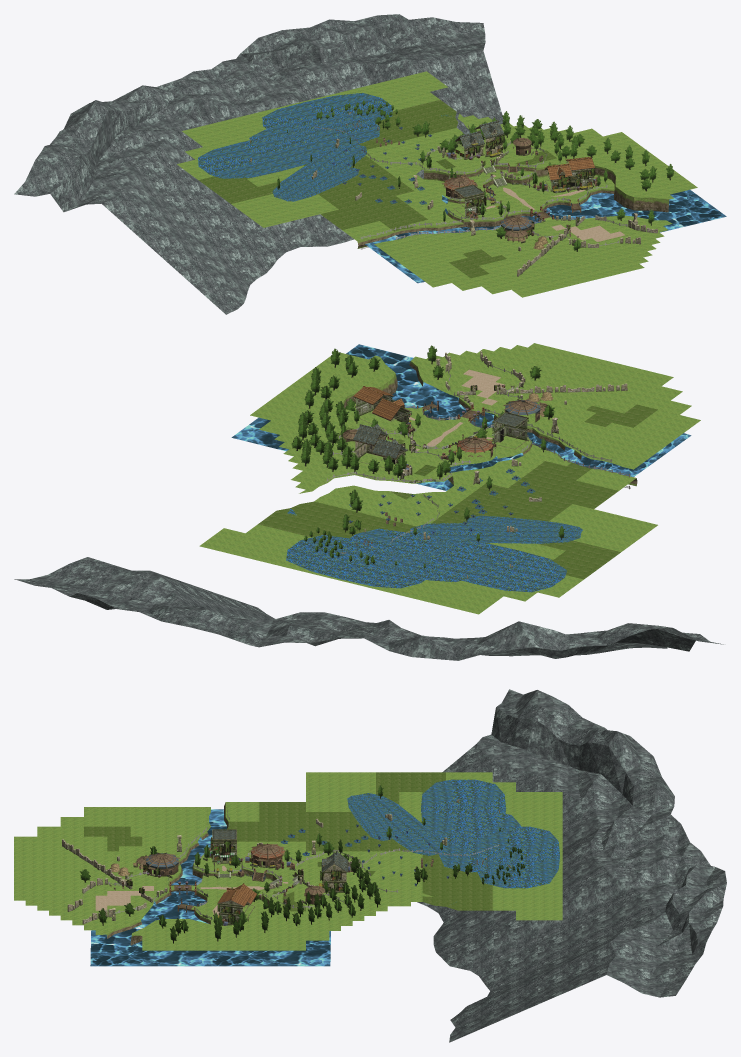
The model's file is ArmoricaVillage.obj.
3 renders of one model, top to bottom at view 1: azimuth 30°, elevation 25°; view 2: azimuth 150°, elevation 25°; view 3: azimuth 270°, elevation 25°, orthographic. The views are drawn at different scales.
Parts seen in each view (by area): view 1: Object.31, Object.27, Object.24, Object.33, Object.30, Object.32, Object.49, Object.28, Object.393, Object.50, Object.43, Object.25 (+66 smaller); view 2: Object.31, Object.393, Object.26, Object.61, Object.394, Object.228, Object.57, Object.391, Object.48, Object.135, Object.130, Object.46 (+83 smaller); view 3: Object.31, Object.25, Object.28, Object.32, Object.43, Object.24, Object.26, Object.393, Object.50, Object.41, Object.61, Object.49 (+65 smaller).
Boxes of the visible parts, bbox=[...] form: Object.31: bbox=[102, 51, 503, 314]; Object.27: bbox=[259, 26, 338, 71]; Object.24: bbox=[78, 110, 157, 168]; Object.33: bbox=[142, 84, 223, 130]; Object.30: bbox=[14, 154, 100, 212]; Object.32: bbox=[103, 85, 182, 135]; Object.49: bbox=[354, 14, 436, 54]; Object.28: bbox=[56, 153, 128, 204]; Object.393: bbox=[240, 123, 329, 157]; Object.50: bbox=[320, 19, 380, 62]; Object.43: bbox=[198, 78, 267, 116]; Object.25: bbox=[42, 121, 118, 176]; Object.31: bbox=[110, 564, 667, 656]; Object.393: bbox=[390, 540, 488, 583]; Object.26: bbox=[476, 621, 560, 652]; Object.61: bbox=[514, 346, 608, 383]; Object.394: bbox=[342, 528, 441, 572]; Object.228: bbox=[572, 509, 657, 542]; Object.57: bbox=[564, 361, 651, 393]; Object.391: bbox=[426, 530, 537, 566]; Object.48: bbox=[88, 564, 161, 602]; Object.135: bbox=[462, 488, 550, 517]; Object.130: bbox=[292, 501, 380, 537]; Object.46: bbox=[29, 557, 109, 587]; Object.31: bbox=[417, 744, 654, 1042]; Object.25: bbox=[533, 697, 604, 769]; Object.28: bbox=[482, 704, 541, 766]; Object.32: bbox=[593, 746, 661, 817]; Object.43: bbox=[592, 816, 664, 862]; Object.24: bbox=[536, 729, 607, 793]; Object.26: bbox=[588, 729, 653, 793]; Object.393: bbox=[438, 809, 520, 846]; Object.50: bbox=[648, 893, 722, 938]; Object.41: bbox=[596, 848, 663, 894]; Object.61: bbox=[14, 866, 81, 895]; Object.49: bbox=[645, 921, 716, 967].
Bounding box in the file's own units: 232 × 52.67 × 244.
Materials: 22 (22 with a texture image).
